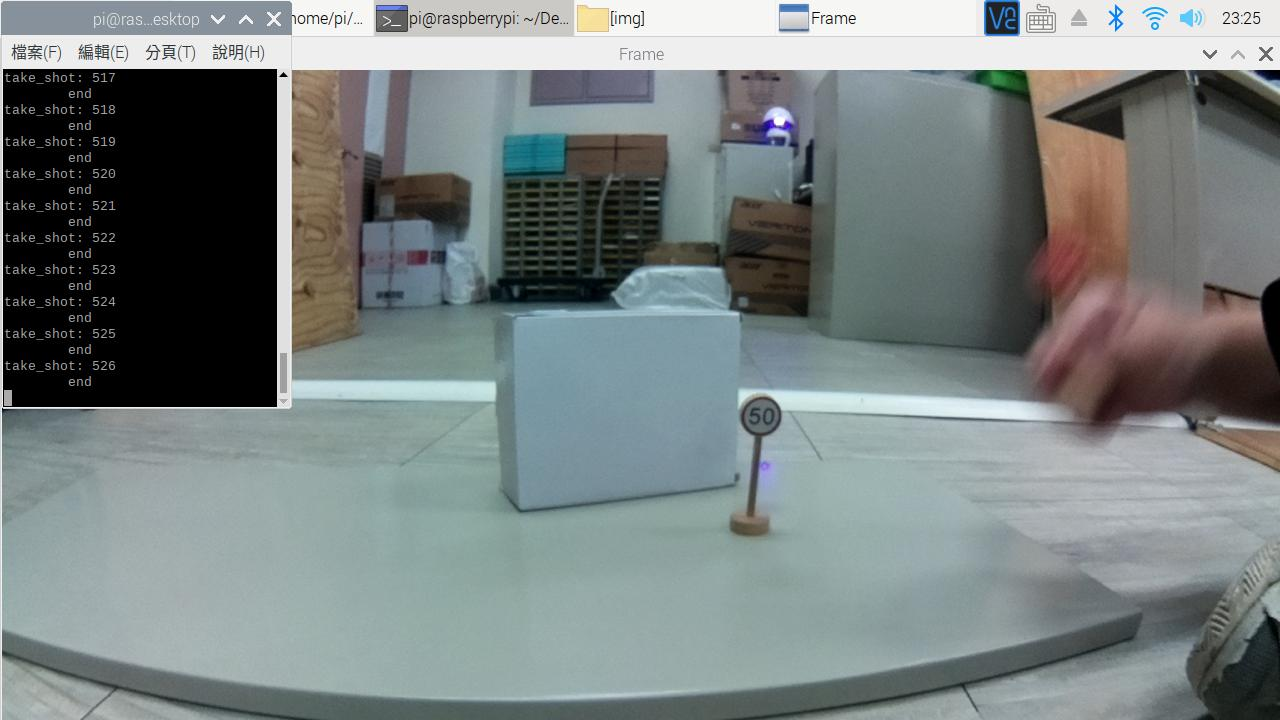Speed50: (733, 386, 791, 447)
